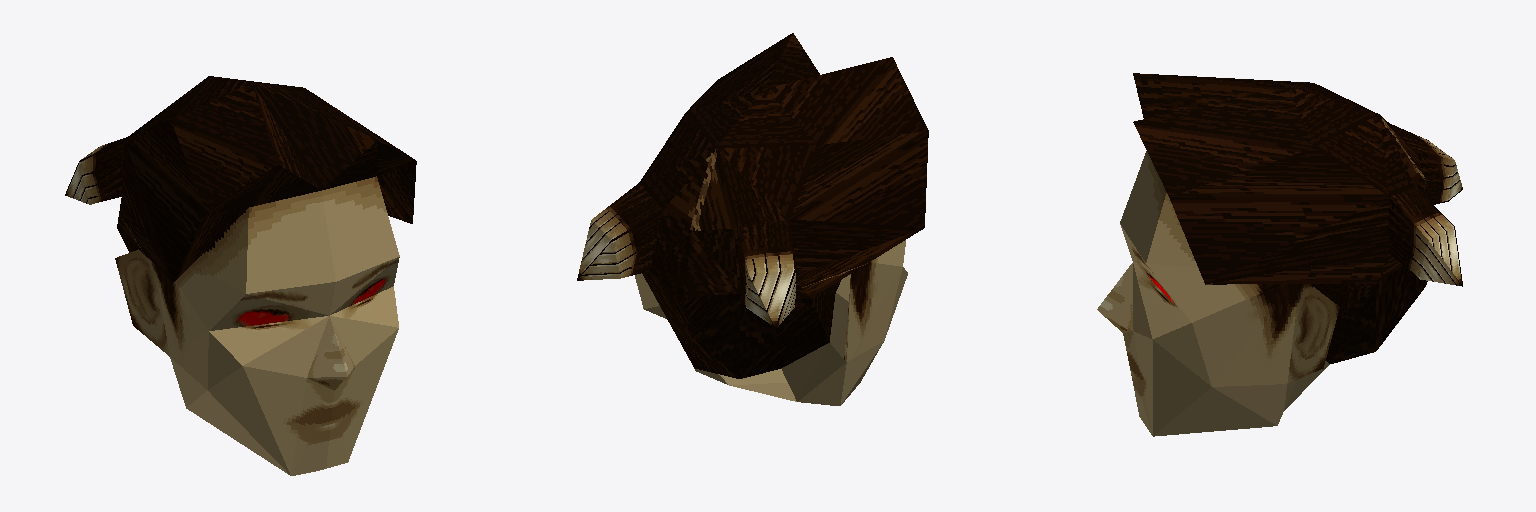
The picture shows the model from 3 angles: view 1: azimuth 30°, elevation 25°; view 2: azimuth 150°, elevation 25°; view 3: azimuth 270°, elevation 25°; orthographic projection.
Visible parts, largest first — view 1: Mesh_15; view 2: Mesh_15; view 3: Mesh_15.
Part boxes in pixels (x1,y1,x2,y2): Mesh_15: (65, 76, 416, 475); Mesh_15: (577, 33, 928, 405); Mesh_15: (1097, 73, 1462, 436).
Size of the model in its own units: 0.84 by 1.14 by 1.11.
1 materials, 1 textured.